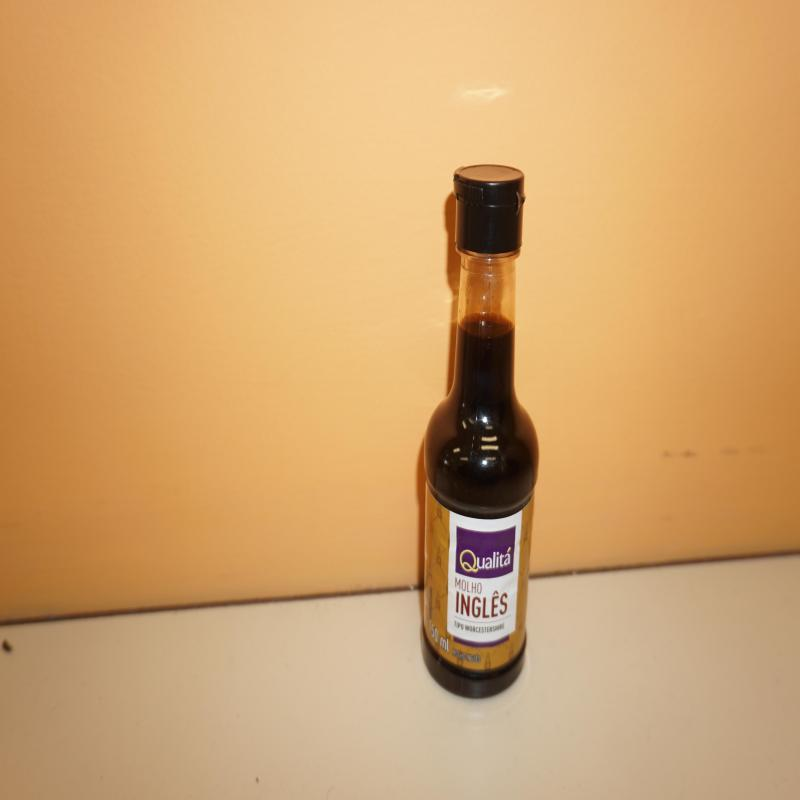EnglishSauce: (422, 165, 539, 702)
